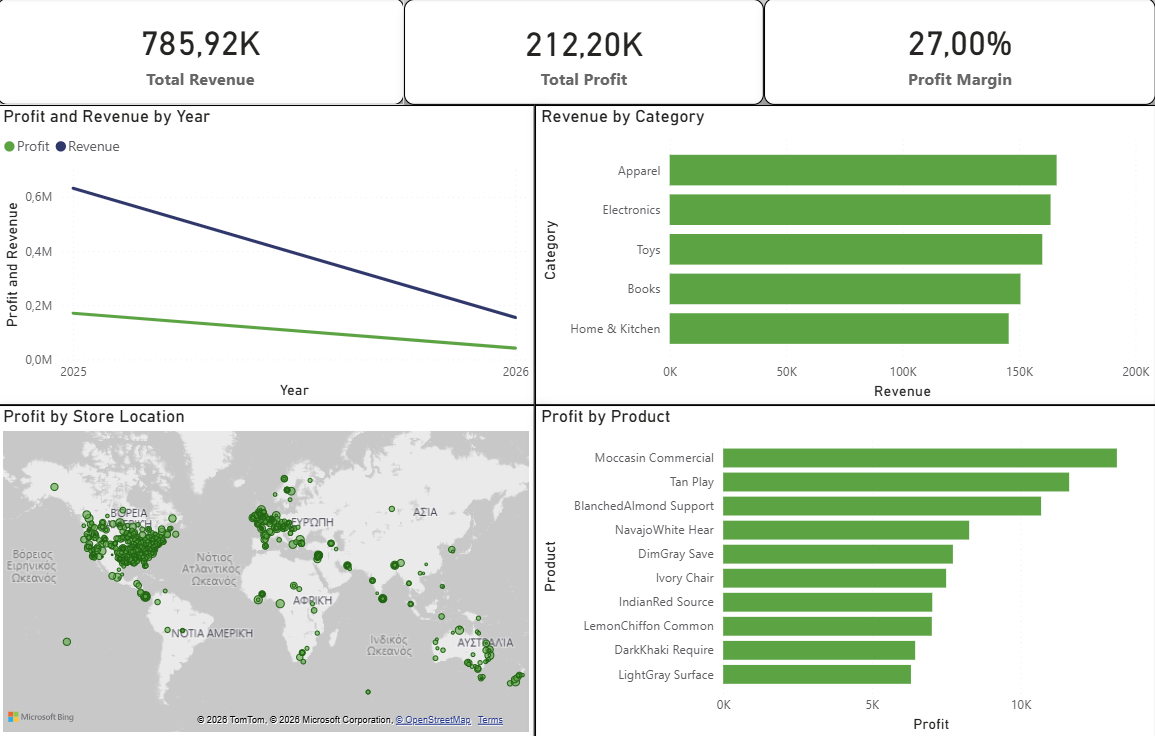

This screenshot's page, from the dashboard's own definition file:
{"tool":"powerbi","page":{"name":"Page 1","canvas":[1280,720],"ordinal":0},"visuals":[{"type":"card","fields":{"Values":["Sum(retail_analytics view_executive_summary.revenue)"]},"box":[0,0,395.9,104.1],"z":0},{"type":"card","fields":{"Values":["Sum(retail_analytics view_executive_summary.net_profit)"]},"box":[395.9,1,350.2,103.1],"z":1000},{"type":"card","fields":{"Values":["retail_analytics view_executive_summary.Actual\\ Margin"]},"box":[746,0,381.3,104.1],"z":2000},{"type":"lineChart","fields":{"Category":["retail_analytics view_executive_summary.sale_date.Variation.Date Hierarchy.Year","retail_analytics view_executive_summary.sale_date.Variation.Date Hierarchy.Quarter","retail_analytics view_executive_summary.sale_date.Variation.Date Hierarchy.Month","retail_analytics view_executive_summary.sale_date.Variation.Date Hierarchy.Day"],"Y":["Sum(retail_analytics view_executive_summary.net_profit)","Sum(retail_analytics view_executive_summary.revenue)"]},"box":[0,104.1,523.3,291.8],"z":3000},{"type":"clusteredBarChart","fields":{"Category":["retail_analytics view_product_performance.category"],"Y":["Sum(retail_analytics view_executive_summary.revenue)"]},"box":[523.3,104.1,604,291.8],"z":4000},{"type":"map","fields":{"Size":["Sum(retail_analytics view_executive_summary.net_profit)"],"Category":["retail_analytics view_executive_summary.store_location"]},"box":[0,395.9,523.3,323.9],"z":5000},{"type":"clusteredBarChart","fields":{"Category":["retail_analytics view_product_performance.product_name"],"Y":["Sum(retail_analytics view_product_performance.total_profit)"]},"box":[523.3,395.9,604,323.9],"z":5001}]}

Visuals, with their boxes on the page's 1280x720 design canvas (x1, y1, x2, y2). These are canvas units, not pixel positions in the 1155x736 screenshot, which may show the page scaled, cropped or inside an application window:
card - Sum(retail_analytics view_executive_summary.revenue): {"x1": 0, "y1": 0, "x2": 396, "y2": 104}
card - Sum(retail_analytics view_executive_summary.net_profit): {"x1": 396, "y1": 1, "x2": 746, "y2": 104}
card - retail_analytics view_executive_summary.Actual\ Margin: {"x1": 746, "y1": 0, "x2": 1127, "y2": 104}
lineChart - retail_analytics view_executive_summary.sale_date.Variation.Date Hierarchy.Year x retail_analytics view_executive_summary.sale_date.Variation.Date Hierarchy.Quarter: {"x1": 0, "y1": 104, "x2": 523, "y2": 396}
clusteredBarChart - retail_analytics view_product_performance.category x Sum(retail_analytics view_executive_summary.revenue): {"x1": 523, "y1": 104, "x2": 1127, "y2": 396}
map - Sum(retail_analytics view_executive_summary.net_profit) x retail_analytics view_executive_summary.store_location: {"x1": 0, "y1": 396, "x2": 523, "y2": 720}
clusteredBarChart - retail_analytics view_product_performance.product_name x Sum(retail_analytics view_product_performance.total_profit): {"x1": 523, "y1": 396, "x2": 1127, "y2": 720}
